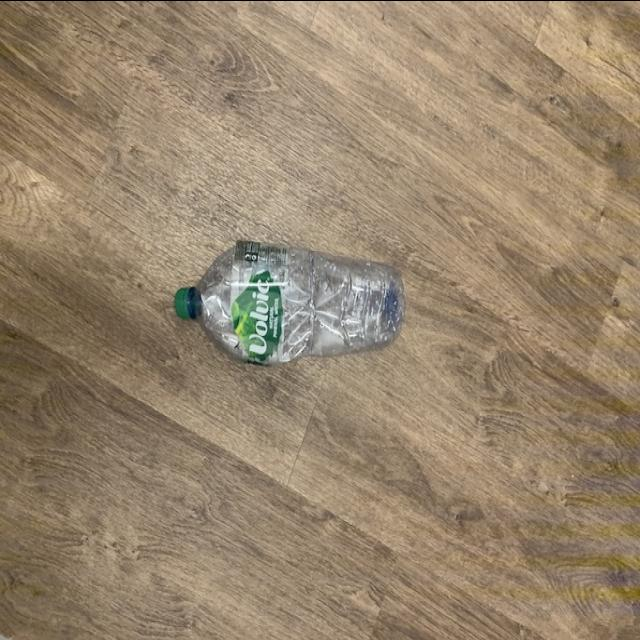litter: (172, 238, 406, 366)
